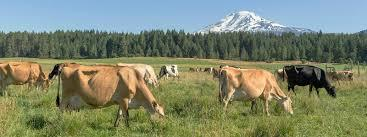cow: (56, 65, 165, 128), (217, 65, 294, 118), (281, 63, 337, 100), (0, 61, 50, 95), (47, 62, 78, 83), (155, 64, 180, 81), (330, 70, 354, 84)
